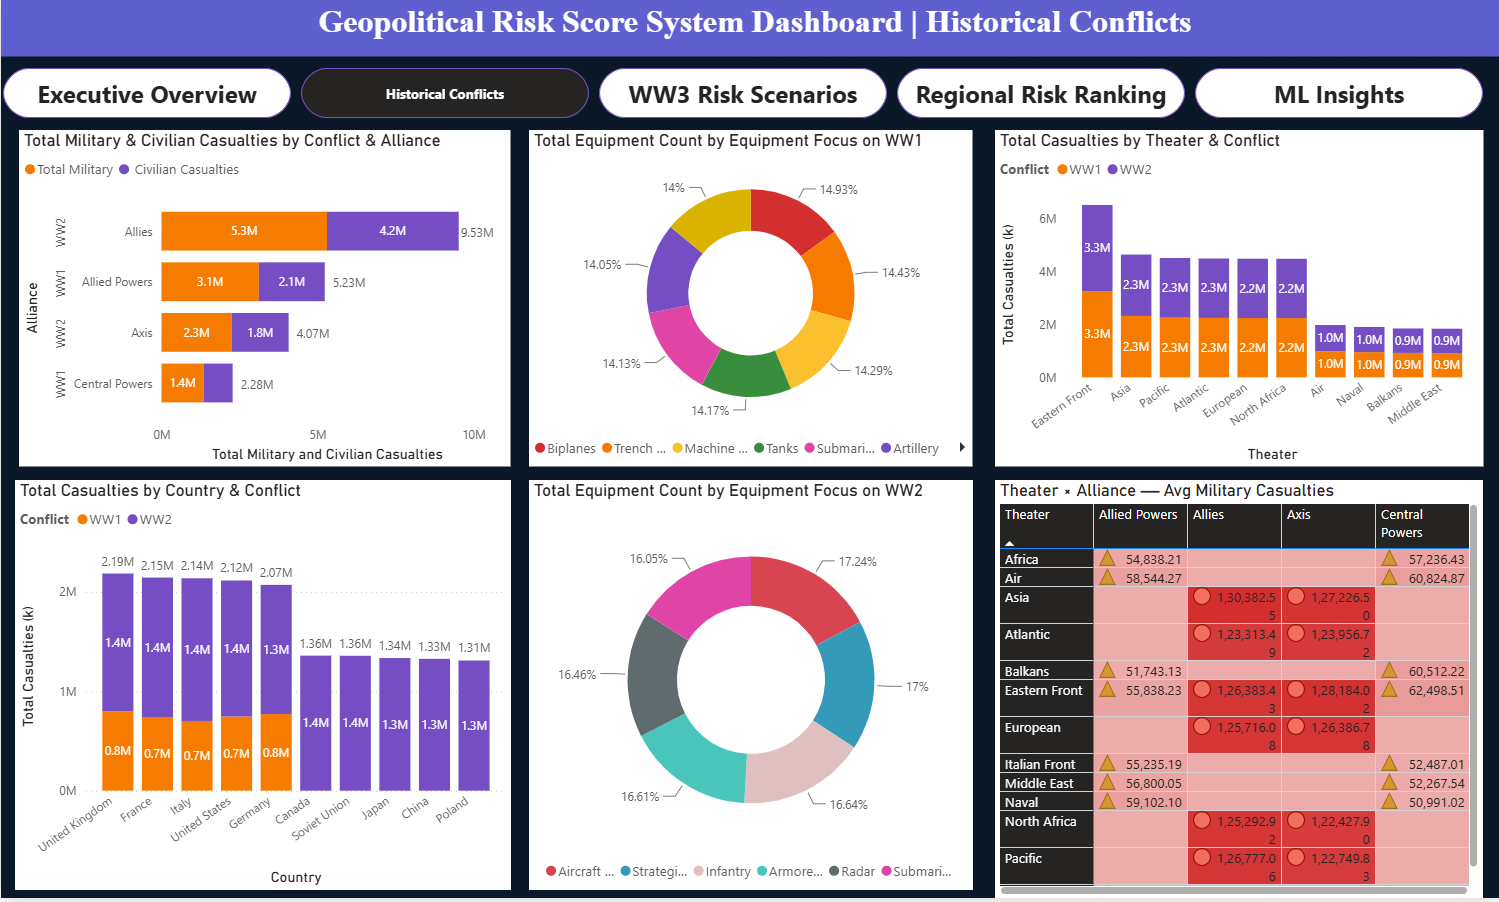

The dashboard page shown, as its layout file describes it:
{"tool":"powerbi","page":{"name":"Historical Conflicts","canvas":[1500,900],"ordinal":1},"visuals":[{"type":"textbox","box":[0,0,1500,58.3],"z":0},{"type":"barChart","title":"Total Military & Civilian Casualties by Conflict & Alliance","fields":{"Y":["_Measure.Total Military Casualties (k)","_Measure.Total Civilian Casualties (k)"],"Category":["FactHistorical.conflict","FactHistorical.alliance"]},"box":[18.3,131.7,491.7,336.7],"z":1000},{"type":"columnChart","title":"Total Casualties by Theater & Conflict","fields":{"Category":["FactHistorical.theater"],"Y":["_Measure.Total Casualties (k)"],"Series":["FactEquipment.conflict"]},"box":[993.3,131.7,488.3,336.7],"z":2000},{"type":"columnChart","title":"Total Casualties by Country & Conflict","fields":{"Y":["_Measure.Total Casualties (k)"],"Category":["FactHistorical.country"],"Series":["FactHistorical.conflict"]},"box":[14,482,496,410],"z":3000},{"type":"pivotTable","title":"Theater × Alliance — Avg Military Casualties","fields":{"Rows":["FactHistorical.theater"],"Columns":["FactHistorical.alliance"],"Values":["_Measure.Average Military Casualties"]},"box":[994,482,488,420],"z":4000},{"type":"donutChart","title":"Total Equipment Count by Equipment Focus on WW1","fields":{"Y":["_Measure.Total Equipment Count"],"Category":["FactEquipment.equipment_focus"],"Series":["FactEquipment.conflict"]},"box":[528.3,131.7,443.3,336.7],"z":5000},{"type":"donutChart","title":"Total Equipment Count by Equipment Focus on WW2","fields":{"Y":["_Measure.Total Equipment Count"],"Category":["FactEquipment.equipment_focus"],"Series":["FactEquipment.conflict"]},"box":[528,482,444,410],"z":6000},{"type":"pageNavigator","box":[1.7,70,1480,50],"z":7000}]}

Visuals, with their boxes in screenshot pixels (x1, y1, x2, y2), scaled from the page's 1500x900 canvas onto the 1499x902 screenshot:
textbox: bbox(0, 0, 1498, 58)
"Total Military & Civilian Casualties by Conflict & Alliance" barChart: bbox(18, 132, 510, 469)
"Total Casualties by Theater & Conflict" columnChart: bbox(993, 132, 1481, 469)
"Total Casualties by Country & Conflict" columnChart: bbox(14, 483, 510, 894)
"Theater × Alliance — Avg Military Casualties" pivotTable: bbox(993, 483, 1481, 901)
"Total Equipment Count by Equipment Focus on WW1" donutChart: bbox(528, 132, 971, 469)
"Total Equipment Count by Equipment Focus on WW2" donutChart: bbox(528, 483, 971, 894)
pageNavigator: bbox(2, 70, 1481, 120)
